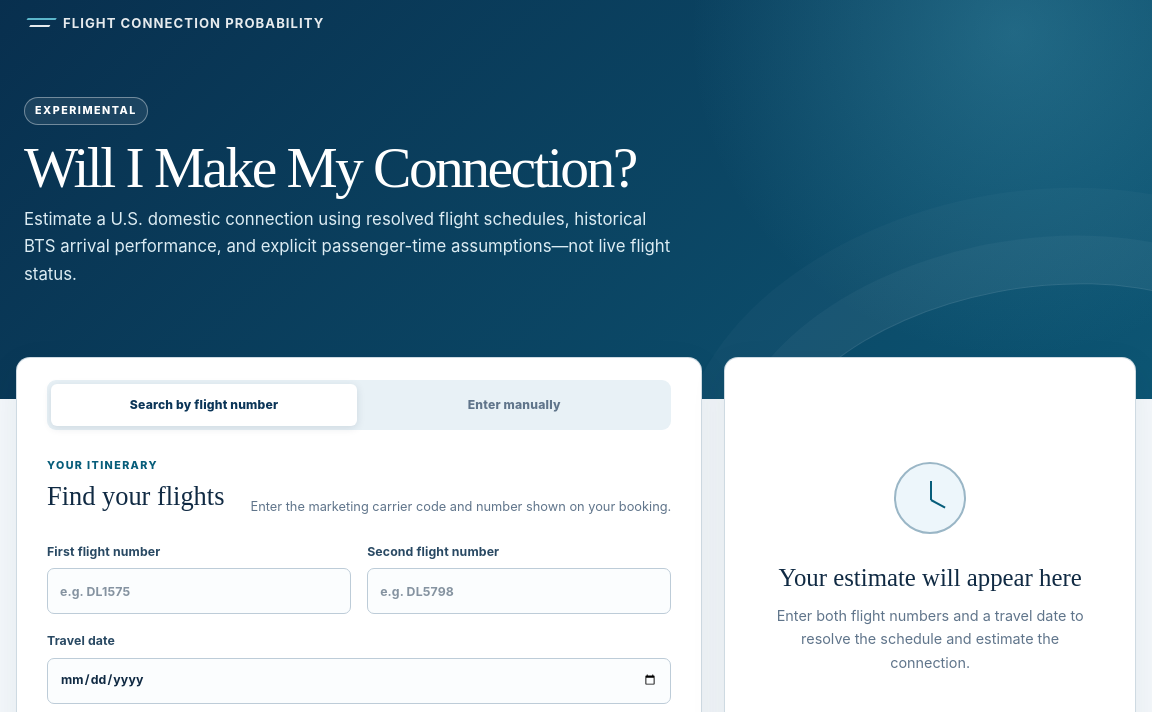
Test: ConnectionRiskCalculator › shows safe V2 domain errors
Type "dl 1575" into the field labelled "First flight number". click: (199, 591)
box: [47,568,351,614]
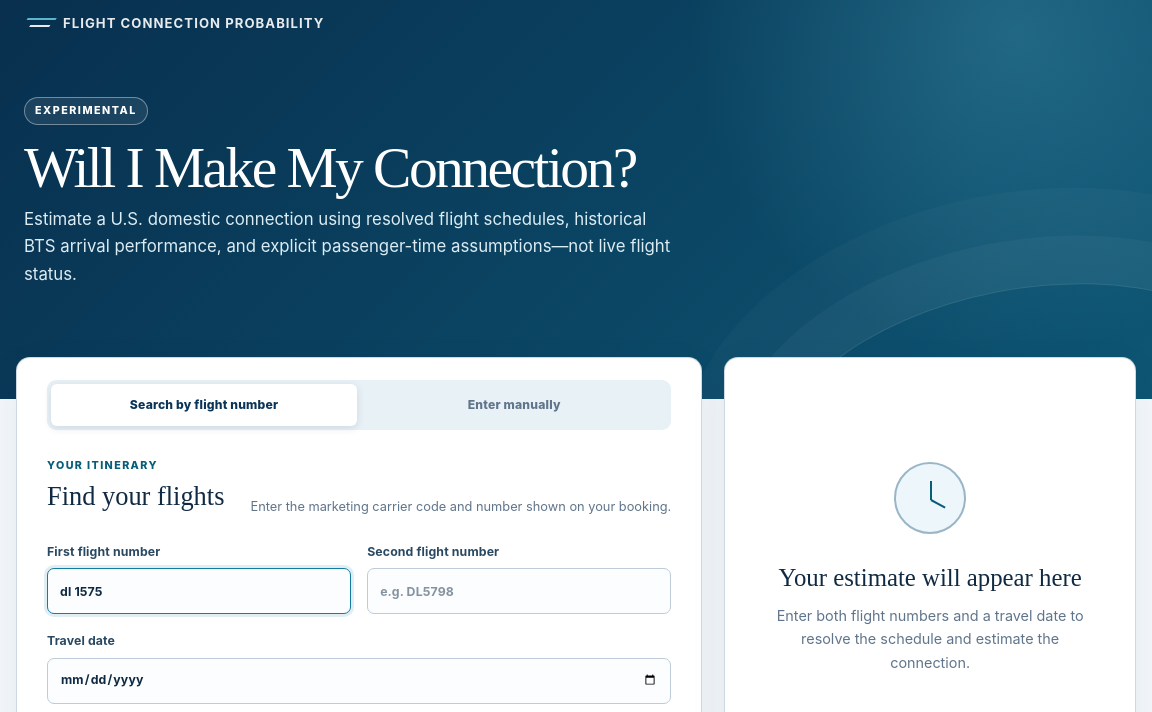
Type "DL5798" into the field labelled "Second flight number". click: (519, 591)
box: [367,568,671,614]
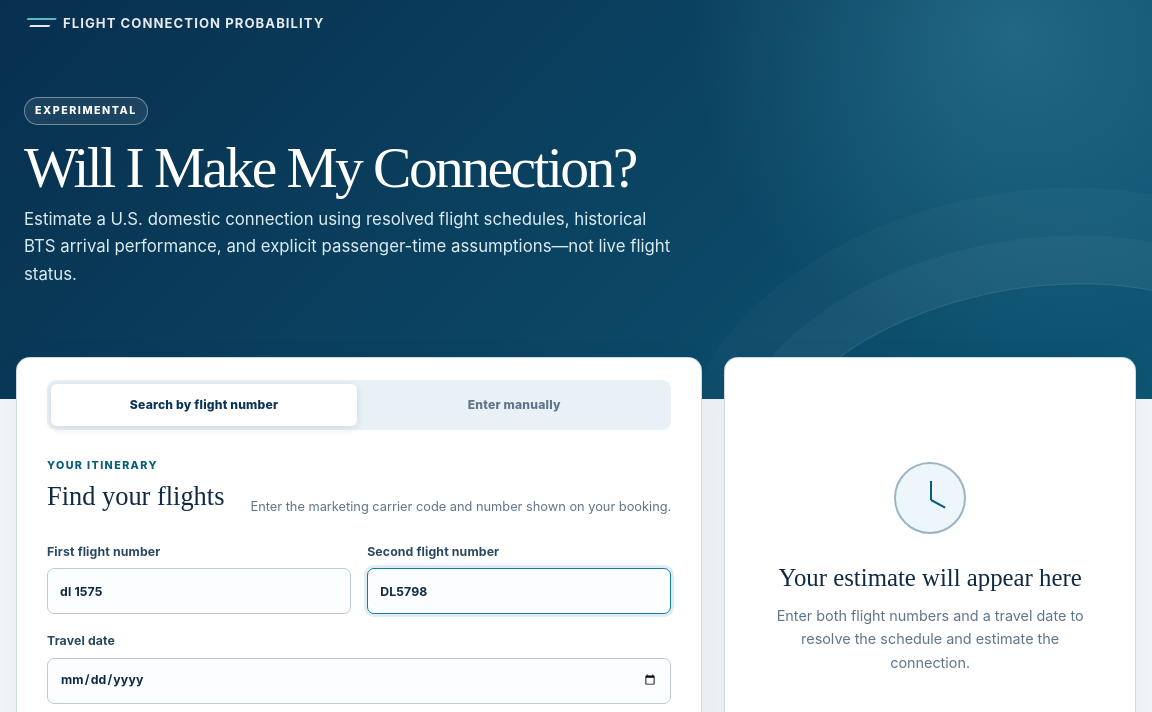
Type "2026-08-20" into the date field labelled "Travel date". click: (359, 680)
box: [47,658,671,704]
(page scrolled)
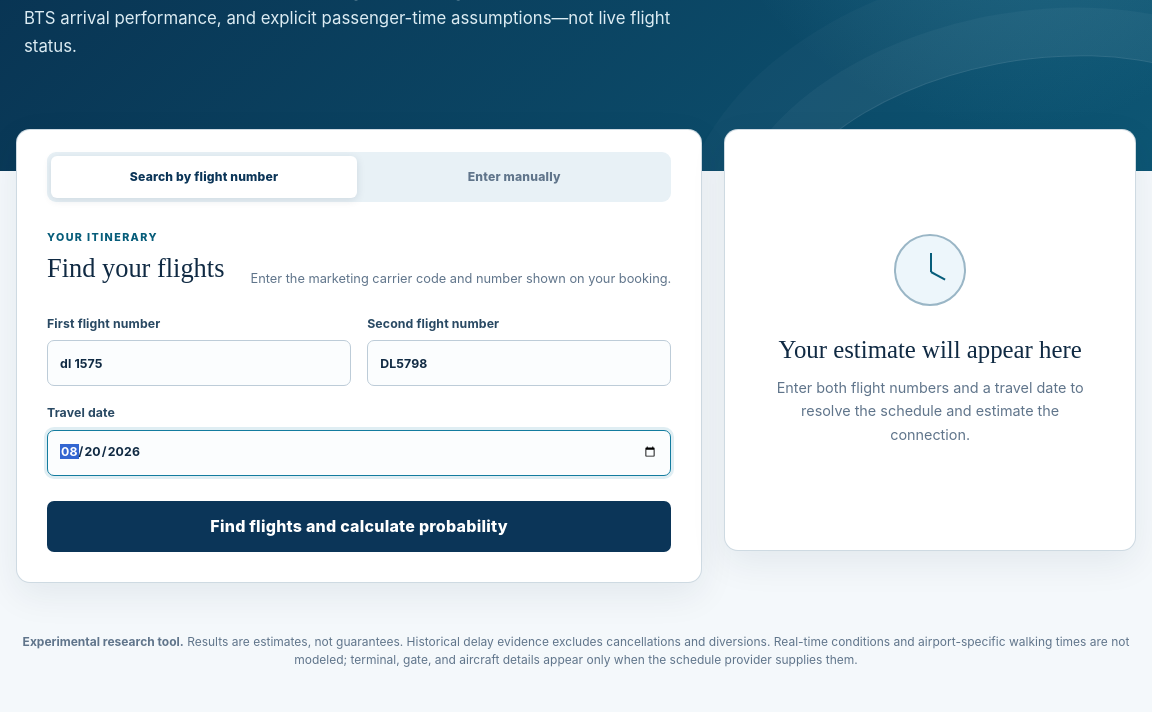
Click the button "Find flights and calculate probability". click: (359, 526)
box: [47,500,671,552]
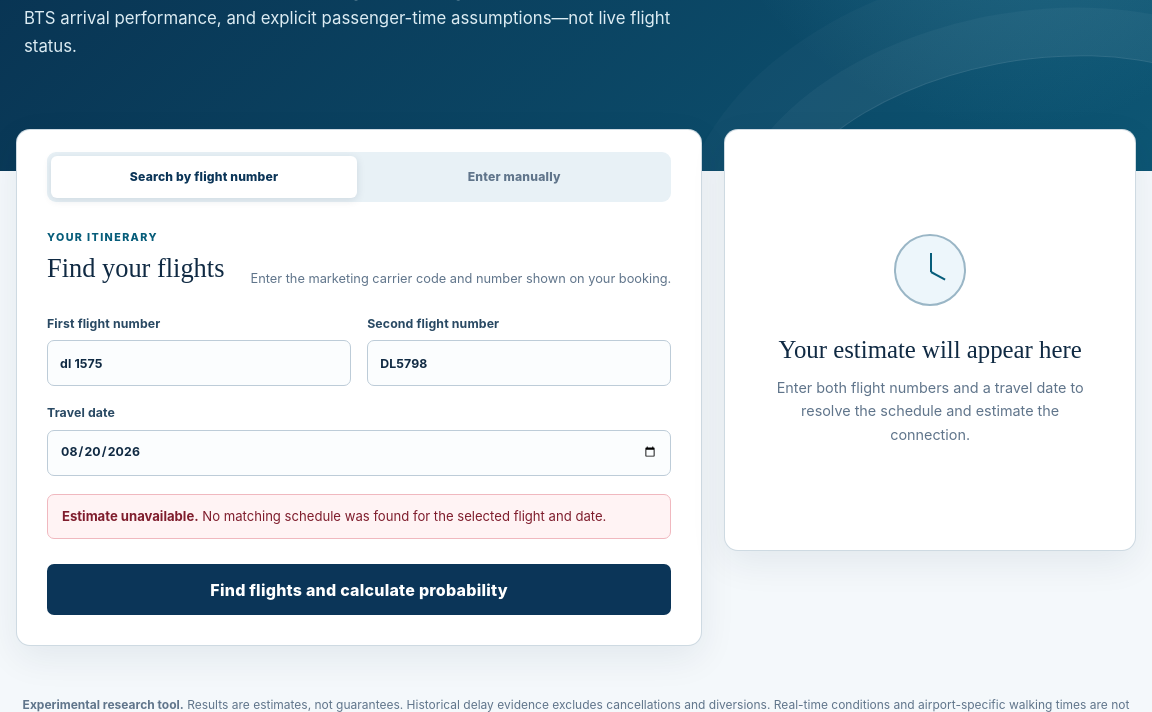
Expected: the message shows "No matching schedule was found", [202,508,606,524]
